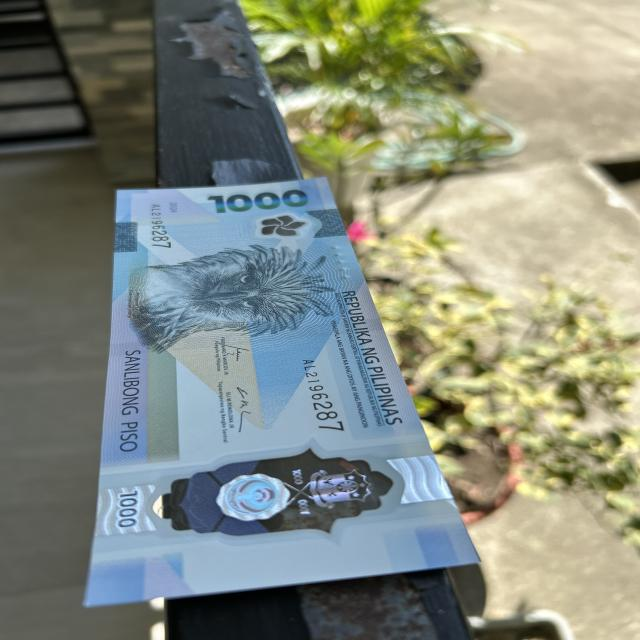clear_window: (147, 453, 419, 534)
eagle: (122, 245, 340, 341)
sampaguita: (252, 207, 307, 238)
serial_number: (298, 346, 349, 430)
